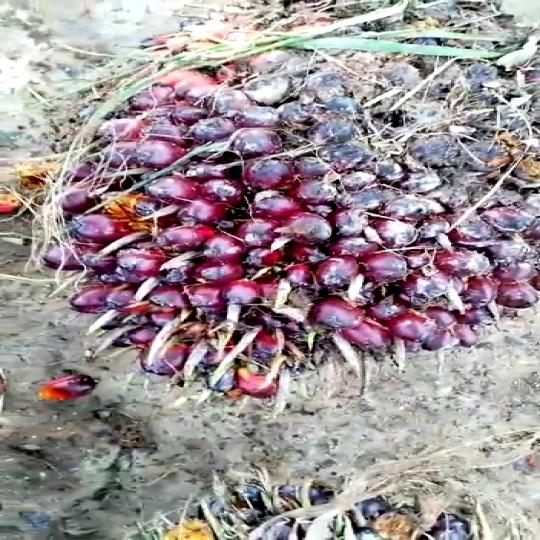kurang masak: (43, 42, 540, 426)
